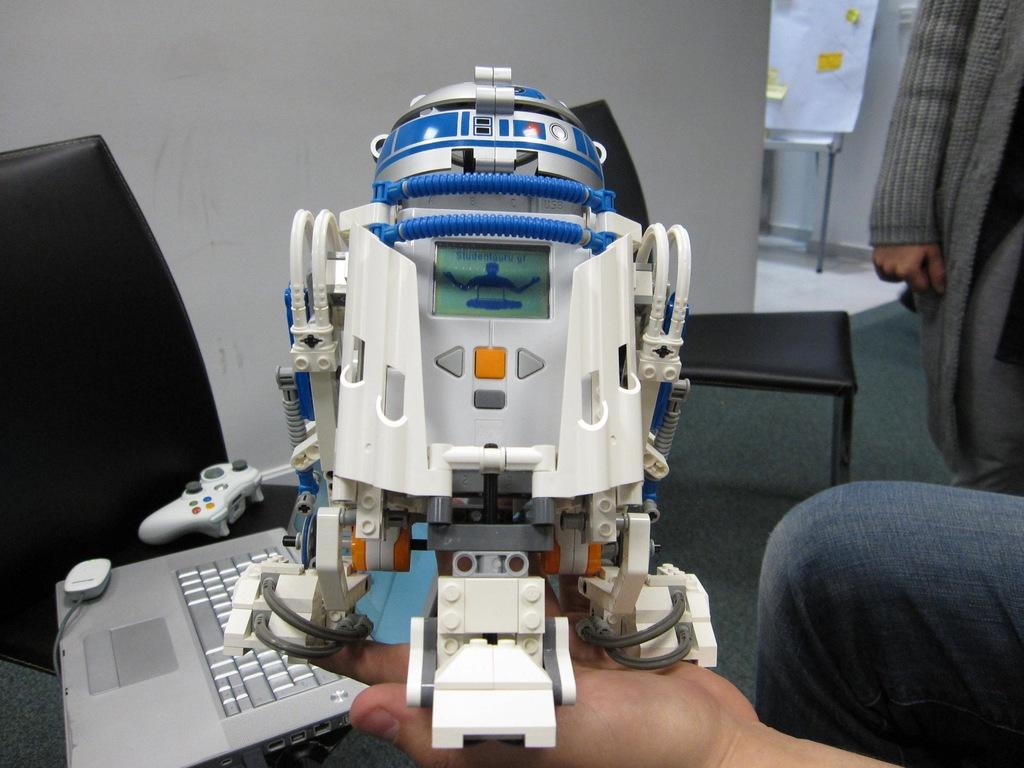Computer-keyboard: (175, 542, 344, 721)
